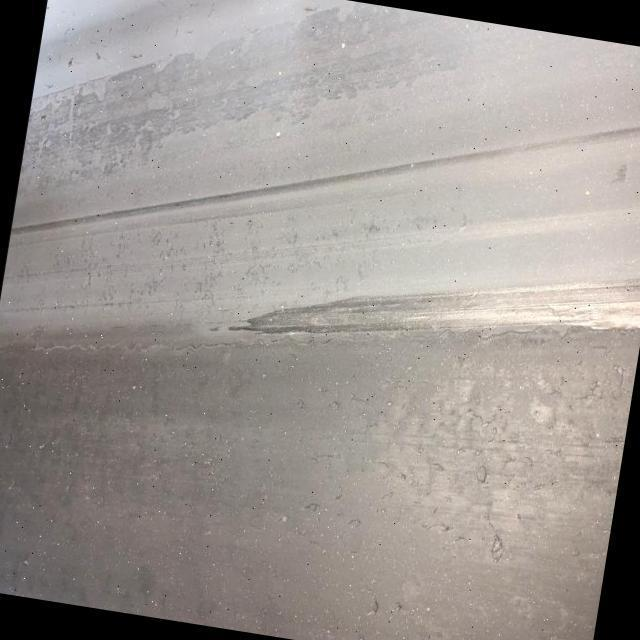Wear: (226, 277, 640, 342)
